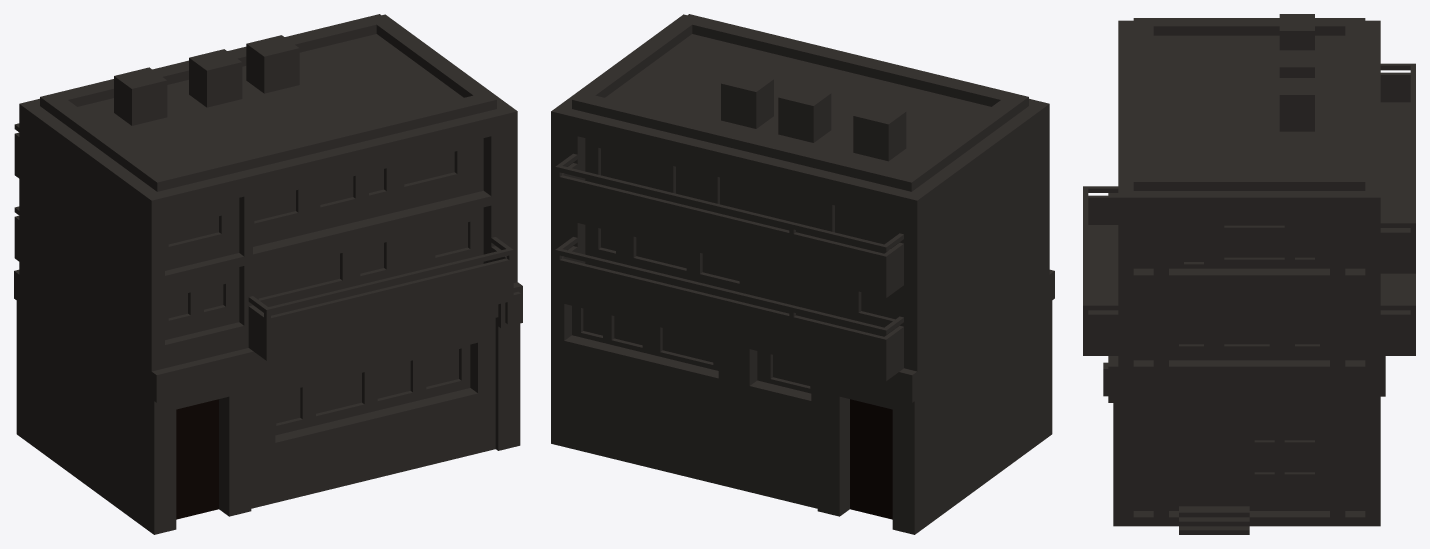
Rendered from Street4-6.obj.
3 views of the same model, side by side, from view 1: azimuth 30°, elevation 25°; view 2: azimuth 150°, elevation 25°; view 3: azimuth 270°, elevation 25° (orthographic).
Bounding box in the file's own units: 8.7 × 8 × 6.6.
Materials: 1 (1 with a texture image).
